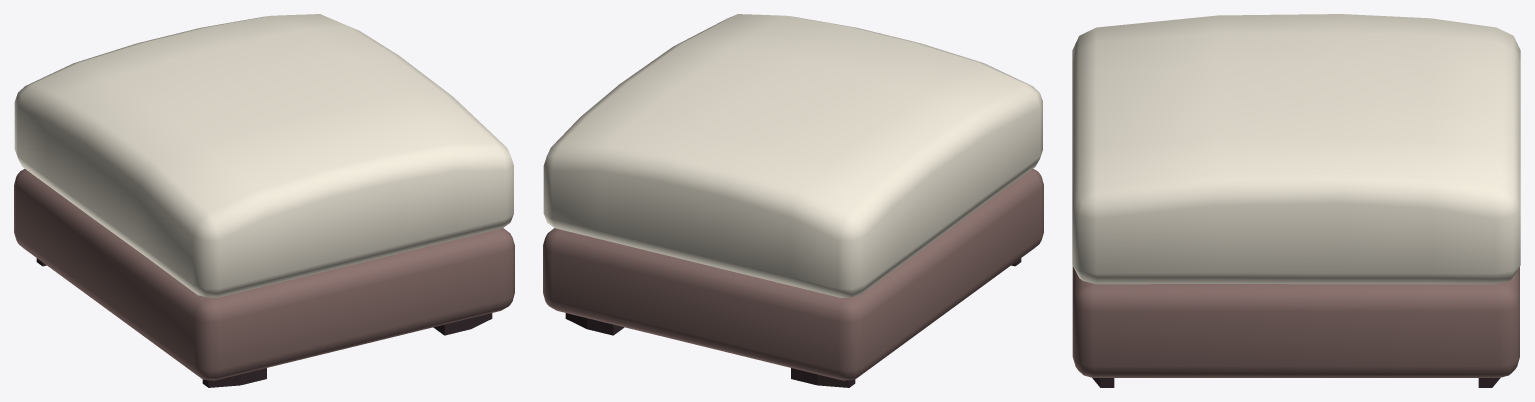
File: Prop_Sofa_03_B.fbx
The picture shows the model from 3 angles, left to right: view 1: azimuth 30°, elevation 25°; view 2: azimuth 150°, elevation 25°; view 3: azimuth 270°, elevation 25°; orthographic projection. The views are drawn at different scales.
Parts seen in each view (by area): view 1: Prop_Sofa_03_B; view 2: Prop_Sofa_03_B; view 3: Prop_Sofa_03_B.
Boxes of the visible parts, x1,y1,x2,y2 form: Prop_Sofa_03_B: [14, 14, 514, 387]; Prop_Sofa_03_B: [543, 14, 1043, 387]; Prop_Sofa_03_B: [1072, 14, 1520, 387].
Size of the model in its own units: 86.02 by 51.11 by 92.21.
